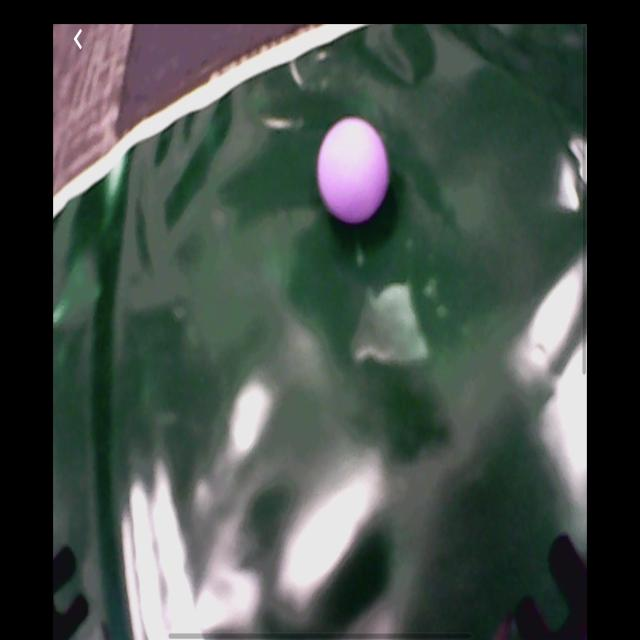ball: (318, 115, 388, 225)
